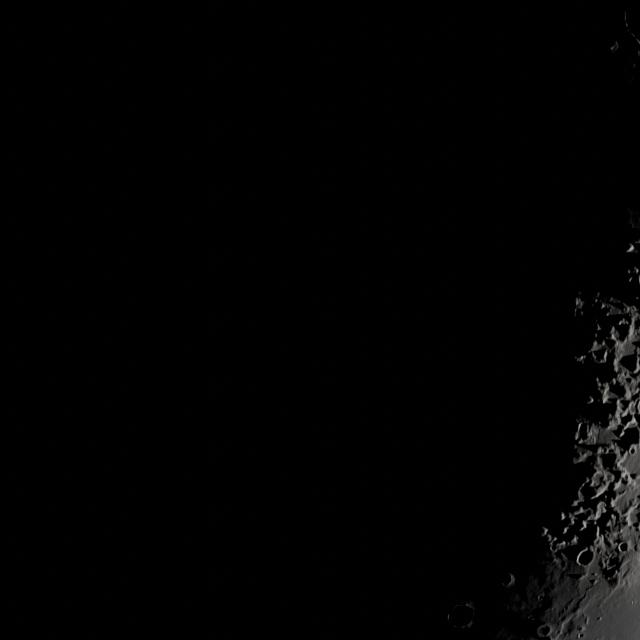crater: (587, 472, 614, 500), (446, 603, 474, 629), (599, 507, 619, 530), (622, 504, 640, 528), (574, 421, 592, 443), (575, 548, 595, 566), (602, 555, 620, 574), (556, 619, 573, 637), (536, 594, 553, 611), (555, 554, 569, 571), (508, 592, 522, 609), (583, 578, 596, 594), (559, 604, 573, 618), (543, 624, 557, 636), (617, 540, 629, 554), (524, 612, 537, 624), (540, 586, 552, 598), (508, 578, 520, 590), (620, 474, 630, 486), (592, 578, 600, 587), (537, 594, 545, 602)
rock: (578, 481, 600, 502), (573, 562, 592, 579), (626, 315, 636, 342), (591, 348, 608, 363), (603, 336, 617, 350), (537, 624, 551, 637), (594, 612, 606, 624), (625, 242, 637, 253), (576, 623, 586, 635), (585, 395, 596, 405), (464, 601, 474, 611), (576, 354, 586, 364), (610, 41, 619, 52), (583, 616, 591, 626), (559, 511, 567, 521), (634, 444, 640, 456), (633, 472, 640, 482), (446, 614, 453, 622), (636, 599, 640, 606), (578, 636, 584, 640)
